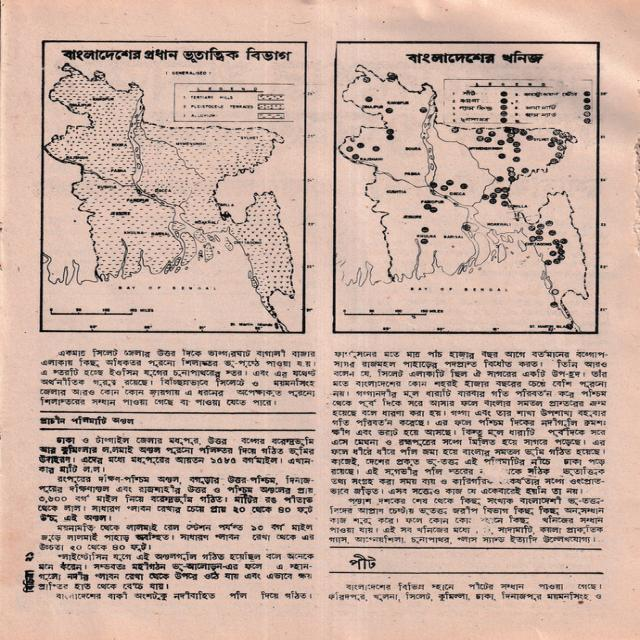caption: (55, 43, 299, 65), (398, 48, 547, 67)
image: (334, 42, 600, 332), (42, 41, 306, 332)
page number: (18, 550, 38, 565)
paragraph: (321, 345, 616, 496), (27, 344, 320, 409), (33, 549, 316, 603), (324, 494, 610, 547), (34, 471, 316, 524), (33, 434, 319, 475), (32, 522, 317, 553), (323, 579, 608, 609)
text: (18, 567, 41, 598)
title: (36, 409, 141, 431), (330, 551, 390, 574)
